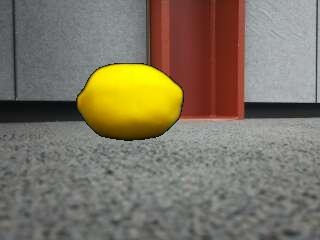lemon: (77, 64, 184, 140)
